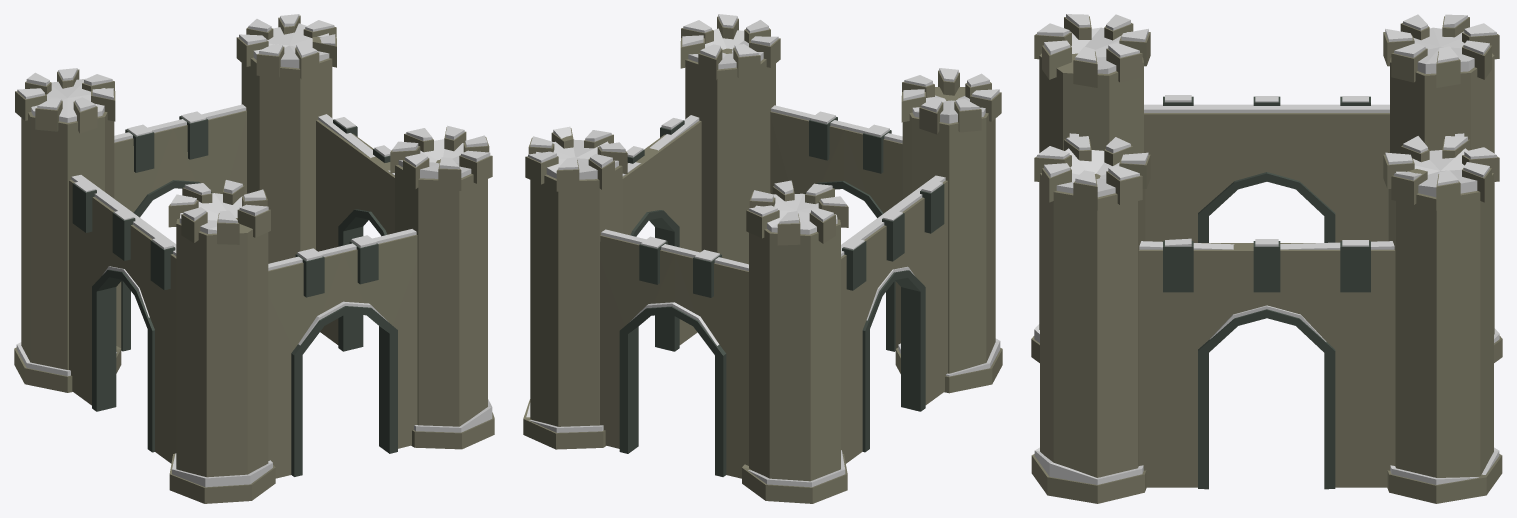
Rendered from Castle_1_lvl_snow_mat.fbx.
The picture shows the model from 3 angles, left to right: view 1: azimuth 30°, elevation 25°; view 2: azimuth 150°, elevation 25°; view 3: azimuth 270°, elevation 25°; orthographic projection. The views are drawn at different scales.
Parts seen in each view (by area): view 1: Castle_1_lvl_snow_mat; view 2: Castle_1_lvl_snow_mat; view 3: Castle_1_lvl_snow_mat.
Boxes of the visible parts, left/top/right/bottom form: Castle_1_lvl_snow_mat: left=14, top=14, right=494, bottom=503; Castle_1_lvl_snow_mat: left=523, top=14, right=1002, bottom=503; Castle_1_lvl_snow_mat: left=1031, top=14, right=1502, bottom=503.
Size of the model in its own units: 4.56 by 3.88 by 5.19.
